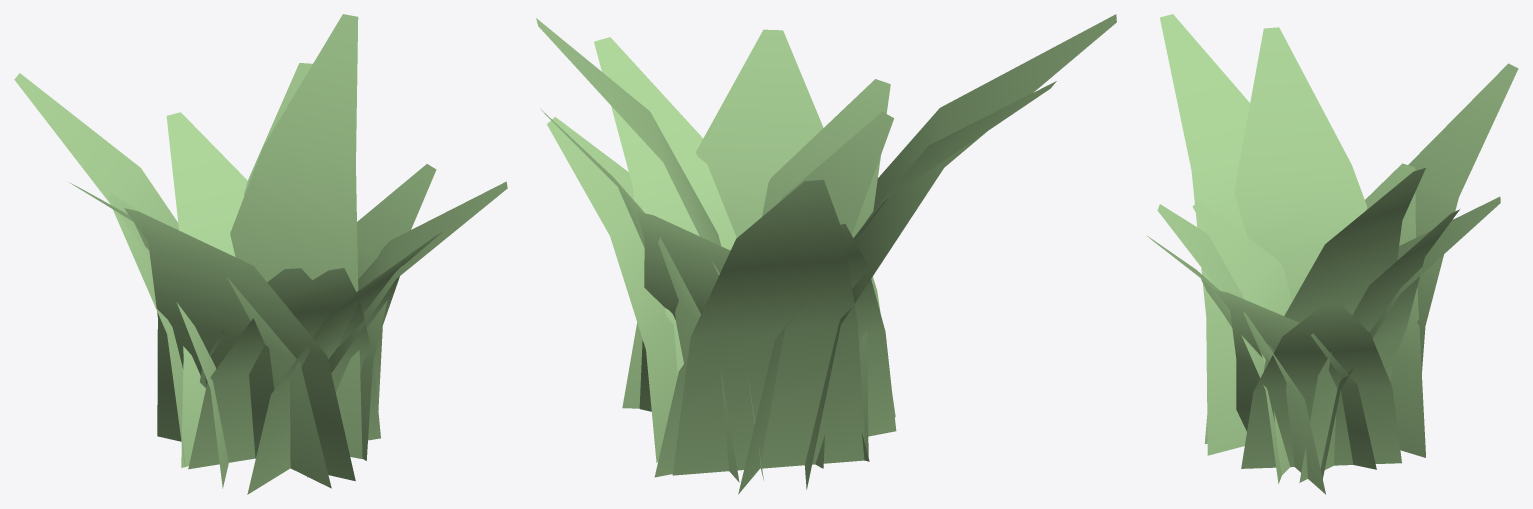
Rendered from grass_tuft_B.glb.
3 views of the same model, side by side, from view 1: azimuth 30°, elevation 25°; view 2: azimuth 150°, elevation 25°; view 3: azimuth 270°, elevation 25° (orthographic). The views are drawn at different scales.
Visible parts, largest first — view 1: grass_tuft_B; view 2: grass_tuft_B; view 3: grass_tuft_B.
Boxes of the visible parts, x1,y1,x2,y2 form: grass_tuft_B: (14,14,507,494); grass_tuft_B: (536,14,1116,494); grass_tuft_B: (1146,14,1518,494).
Bounding box in the file's own units: 0.3421 × 0.2828 × 0.2852.
